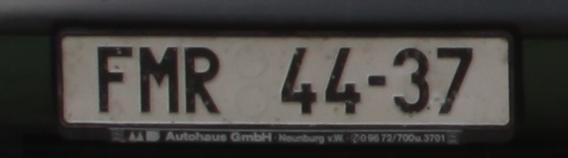-: (368, 74, 386, 85)
3: (395, 49, 428, 114)
4: (326, 47, 362, 114), (283, 47, 316, 114)
7: (436, 47, 473, 115)
F: (97, 45, 132, 115)
M: (140, 47, 178, 113)
R: (185, 47, 218, 113)
